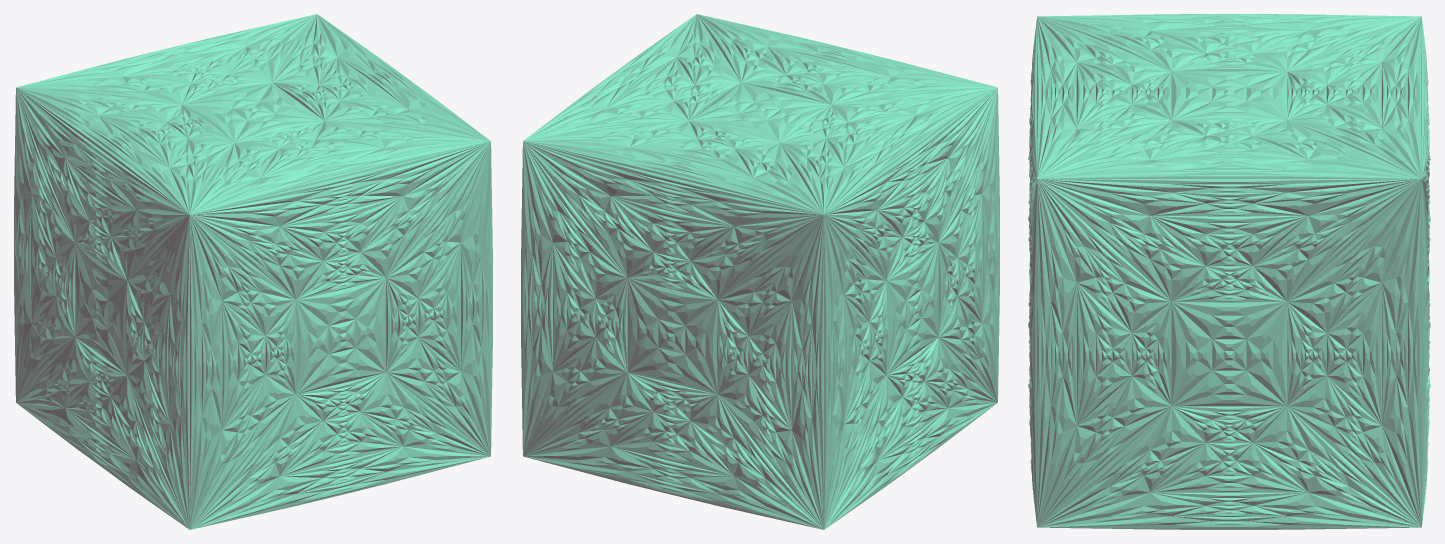
Rendered from glass_box2.glb.
3 views of the same model, side by side, from view 1: azimuth 30°, elevation 25°; view 2: azimuth 150°, elevation 25°; view 3: azimuth 270°, elevation 25° (orthographic). The views are drawn at different scales.
Visible parts, largest first — view 1: Cube; view 2: Cube; view 3: Cube.
Part boxes in pixels (bbox=[...]): Cube: bbox=[14, 14, 492, 529]; Cube: bbox=[521, 14, 999, 529]; Cube: bbox=[1028, 14, 1430, 529].
Bounding box in the file's own units: 2.09 × 2.09 × 2.09.
